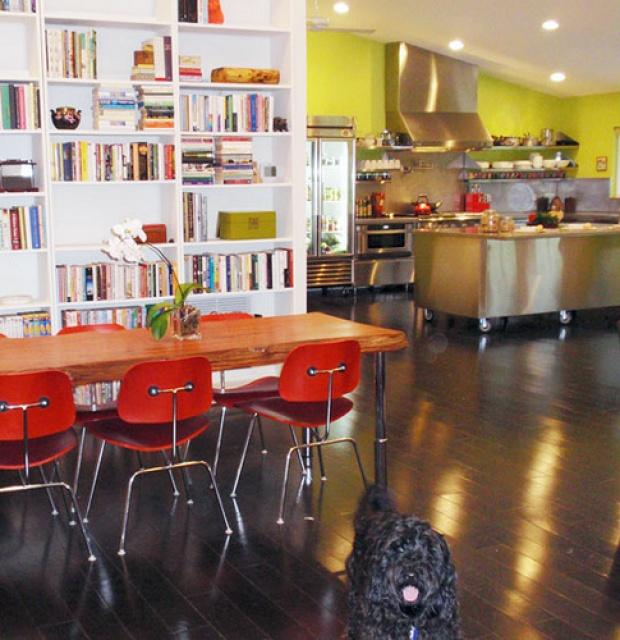Meja: (0, 308, 409, 393)
Rak: (0, 0, 304, 316)
